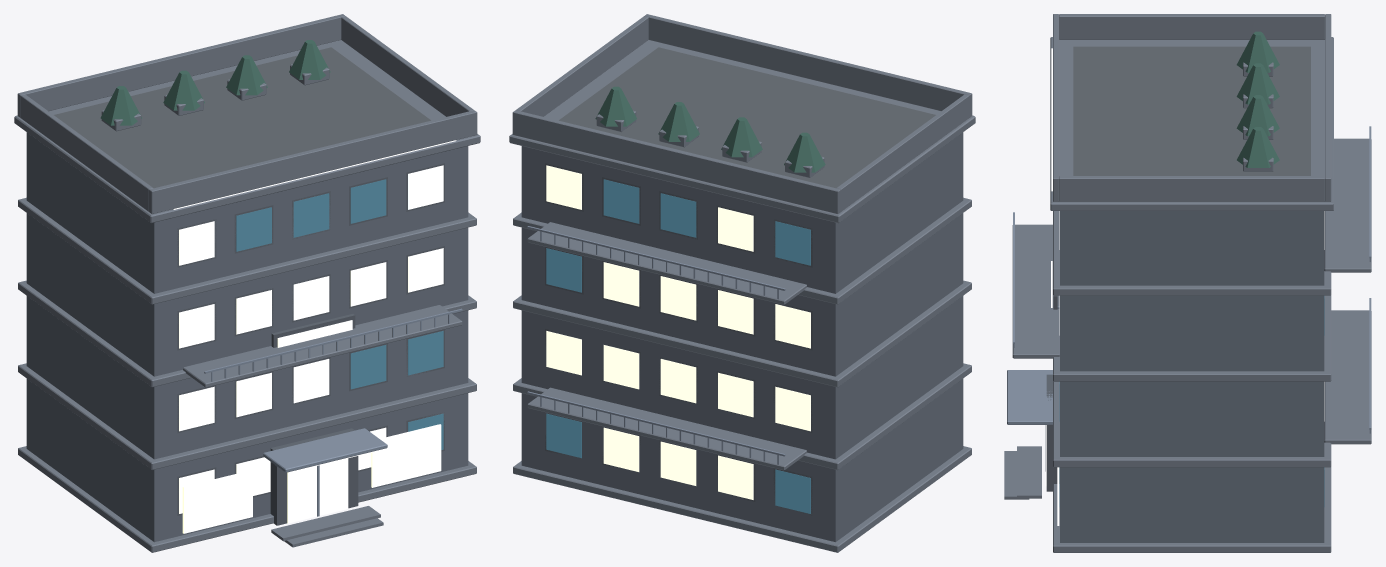
File: residential_c.glb
3 renders of one model, left to right at view 1: azimuth 30°, elevation 25°; view 2: azimuth 150°, elevation 25°; view 3: azimuth 270°, elevation 25°, orthographic. The views are drawn at different scales.
Visible parts, largest first — view 1: residential_c_Graphite@residential, residential_c_Concrete@residential, residential_c_WarmGlass, residential_c_Sidewalk, residential_c_DarkAlloy@residential, residential_c_BlackGlass, residential_c_Steel@residential, residential_c_Foliage, residential_c_CoolGlass; view 2: residential_c_Graphite@residential, residential_c_Concrete@residential, residential_c_Sidewalk, residential_c_WarmGlass, residential_c_BlackGlass, residential_c_DarkAlloy@residential, residential_c_Foliage, residential_c_Steel@residential; view 3: residential_c_Graphite@residential, residential_c_Concrete@residential, residential_c_Sidewalk, residential_c_Foliage, residential_c_Steel@residential, residential_c_DarkAlloy@residential, residential_c_WarmGlass.
Boxes of the visible parts, x1,y1,x2,y2 form: residential_c_Graphite@residential: (26,132,468,542); residential_c_Concrete@residential: (14,14,480,552); residential_c_WarmGlass: (173,140,456,533); residential_c_Sidewalk: (54,47,430,188); residential_c_DarkAlloy@residential: (177,163,444,525); residential_c_BlackGlass: (236,179,443,449); residential_c_Steel@residential: (204,308,462,516); residential_c_Foliage: (100,40,330,125); residential_c_CoolGlass: (408,165,443,209); residential_c_Graphite@residential: (521,132,963,542); residential_c_Concrete@residential: (509,14,975,552); residential_c_Sidewalk: (559,47,935,188); residential_c_WarmGlass: (546,165,810,499); residential_c_BlackGlass: (546,179,810,513); residential_c_DarkAlloy@residential: (545,163,812,515); residential_c_Foliage: (595,86,825,172); residential_c_Steel@residential: (527,226,785,464); residential_c_Graphite@residential: (1060,211,1324,542); residential_c_Concrete@residential: (1004,14,1371,552); residential_c_Sidewalk: (1073,46,1310,175); residential_c_Foliage: (1236,31,1279,167); residential_c_Steel@residential: (1007,126,1371,471); residential_c_DarkAlloy@residential: (1046,295,1059,491); residential_c_WarmGlass: (1045,48,1324,525).
Bounding box in the file's own units: 14.2 × 15.7 × 13.2.
